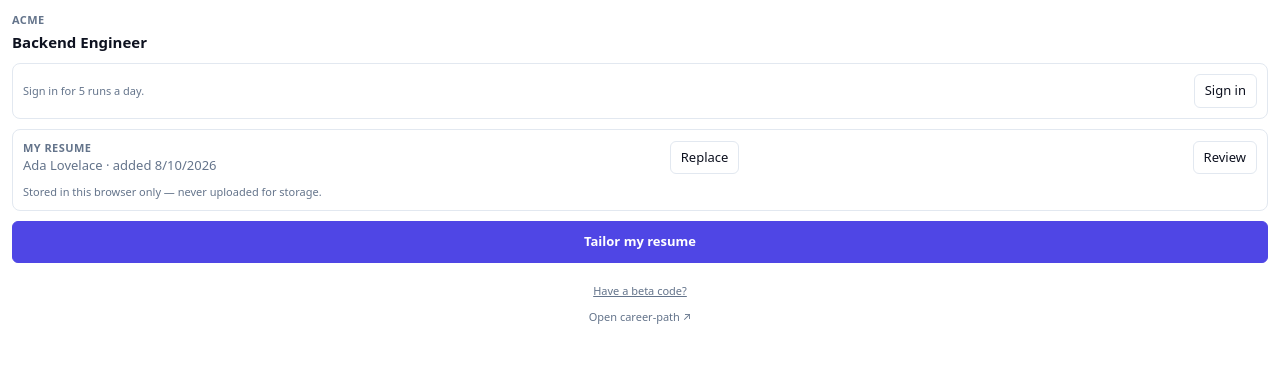
Test: App - runs owned by the background › explains the concurrency cap rather than failing silently
This screenshot has width=1280, height=368.
Click the button "Tailor my resume" at (640, 242), box [12, 221, 1268, 262]
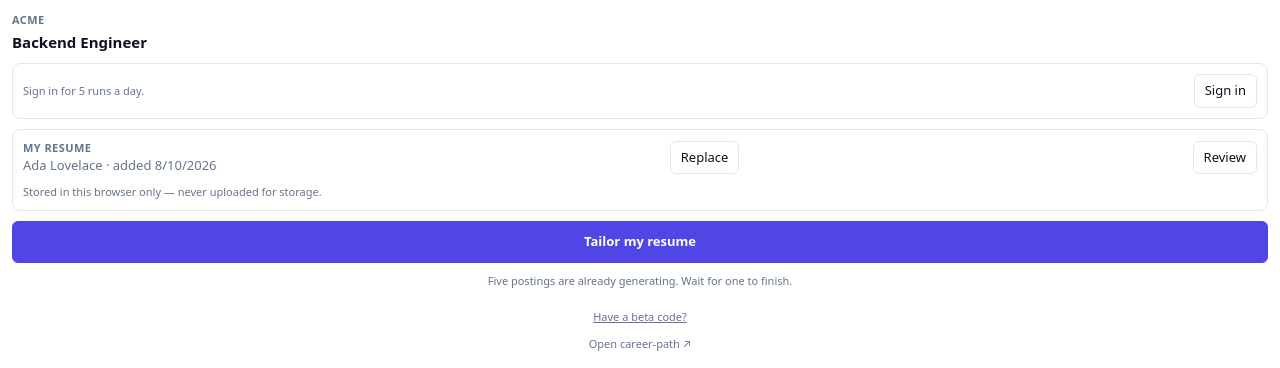
expect the text "Five postings are already generating. Wait for one to finish." is shown: met, box [488, 272, 792, 288]
